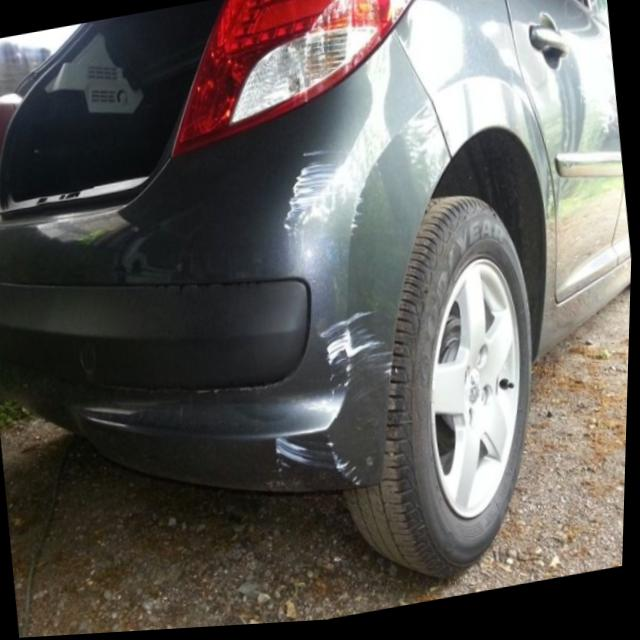Scratch: (273, 133, 363, 249), (317, 309, 377, 387), (271, 429, 349, 482)
